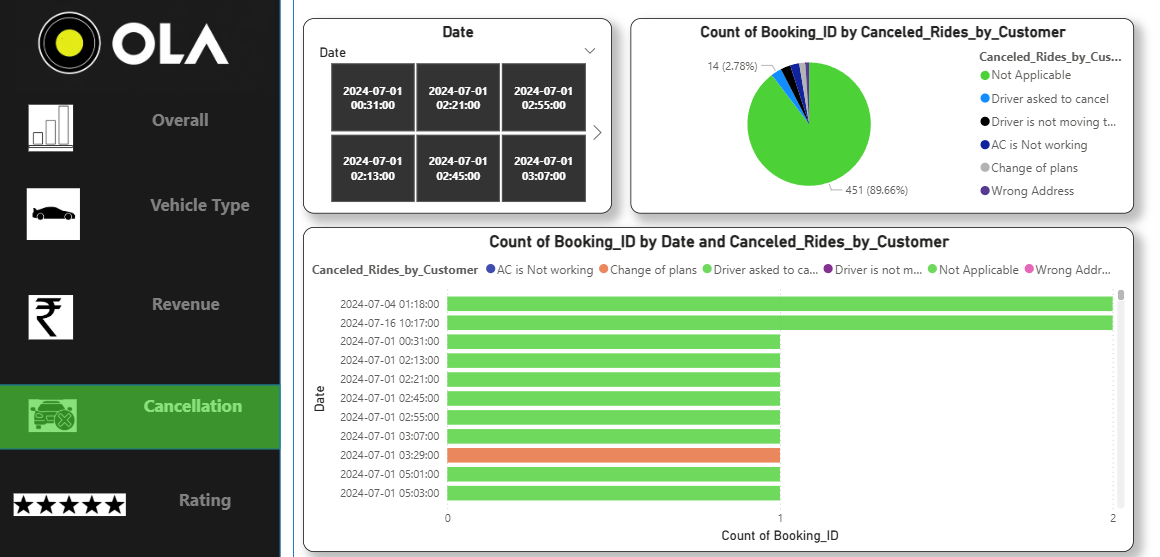

What the dashboard file says about the page in this screenshot:
{"tool":"powerbi","page":{"name":"cancellation","canvas":[1280,720],"ordinal":3},"visuals":[{"type":"shape","box":[0,52.9,310,652.9],"z":0},{"type":"shape","box":[323.8,67.2,956.4,638.1],"z":1000},{"type":"slicer","title":"Date","fields":{"Values":["ola_project cleaned_ola_data.Date"]},"box":[334.8,111.1,338.9,214.1],"z":2000},{"type":"pieChart","fields":{"Y":["CountNonNull(ola_project cleaned_ola_data.Booking_ID)"],"Category":["ola_project cleaned_ola_data.Canceled_Rides_by_Customer"]},"box":[694.3,111.1,553,214.1],"z":3000},{"type":"barChart","fields":{"Category":["ola_project cleaned_ola_data.Date"],"Series":["ola_project cleaned_ola_data.Canceled_Rides_by_Customer"],"Y":["CountNonNull(ola_project cleaned_ola_data.Booking_ID)"]},"box":[335.1,339.9,912.2,357.1],"z":4000},{"type":"image","box":[12.9,78.6,297.1,125.7],"z":5000},{"type":"image","box":[28.6,194.3,58.6,72.9],"z":6000},{"type":"image","box":[28.6,405.7,58.6,65.7],"z":7000},{"type":"image","box":[31.4,297.1,58.6,57.1],"z":8000},{"type":"image","box":[28.6,502.9,62.9,90],"z":9000},{"type":"image","box":[12.9,592.9,132.9,104.3],"z":10000},{"type":"textbox","box":[100,204.3,200,47.1],"z":11000},{"type":"textbox","box":[132.9,297.1,177.1,62.9],"z":12000},{"type":"textbox","box":[118.6,405.7,181.4,54.3],"z":13000},{"type":"textbox","box":[132.9,518.6,167.1,48.6],"z":14000},{"type":"textbox","box":[155.7,621.4,144.3,42.9],"z":15000},{"type":"shape","box":[0,512.9,310,71.4],"z":16000}]}

Visuals, with their boxes on the page's 1280x720 design canvas (x1, y1, x2, y2). These are canvas units, not pixel positions in the 1160x557 screenshot, which may show the page scaled, cropped or inside an application window:
shape: detection(0, 53, 310, 706)
shape: detection(324, 67, 1280, 705)
"Date" slicer: detection(335, 111, 674, 325)
pieChart - CountNonNull(ola_project cleaned_ola_data.Booking_ID) x ola_project cleaned_ola_data.Canceled_Rides_by_Customer: detection(694, 111, 1247, 325)
barChart - ola_project cleaned_ola_data.Date x ola_project cleaned_ola_data.Canceled_Rides_by_Customer: detection(335, 340, 1247, 697)
image: detection(13, 79, 310, 204)
image: detection(29, 194, 87, 267)
image: detection(29, 406, 87, 471)
image: detection(31, 297, 90, 354)
image: detection(29, 503, 92, 593)
image: detection(13, 593, 146, 697)
textbox: detection(100, 204, 300, 251)
textbox: detection(133, 297, 310, 360)
textbox: detection(119, 406, 300, 460)
textbox: detection(133, 519, 300, 567)
textbox: detection(156, 621, 300, 664)
shape: detection(0, 513, 310, 584)
